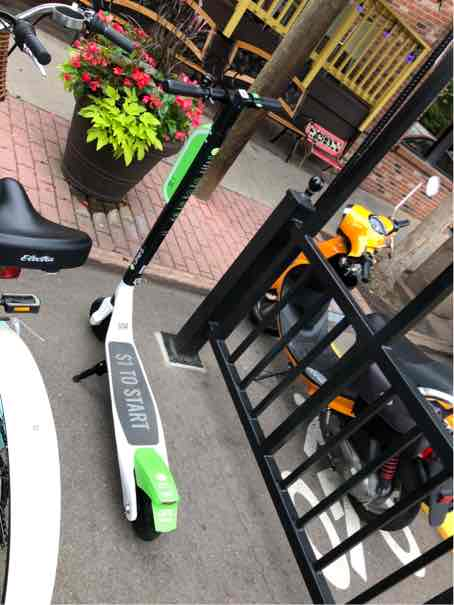scooter: (100, 63, 297, 541)
